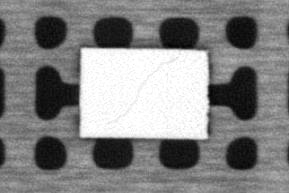DIE_CRACK: (103, 56, 178, 123)
